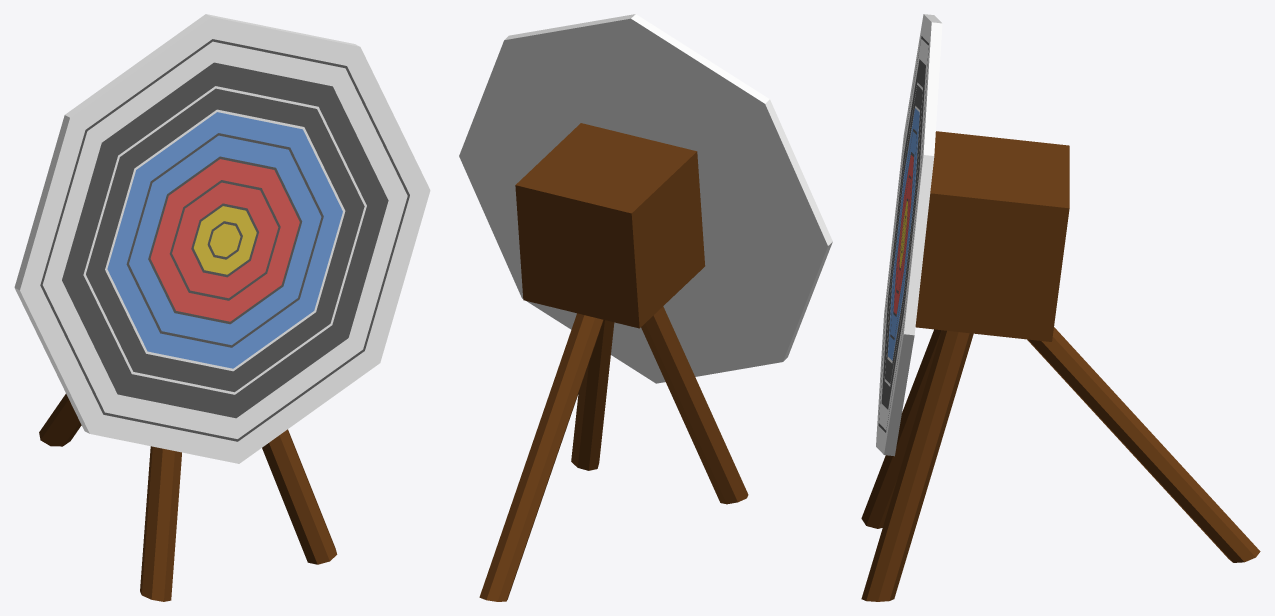
Rendered from target.fbx.
The picture shows the model from 3 angles, left to right: view 1: azimuth 30°, elevation 25°; view 2: azimuth 150°, elevation 25°; view 3: azimuth 270°, elevation 25°; orthographic projection. The views are drawn at different scales.
Parts seen in each view (by area): view 1: Target; view 2: Target; view 3: Target.
Boxes of the visible parts, left/top/right/bottom form: Target: left=14, top=14, right=430, bottom=601; Target: left=459, top=14, right=832, bottom=601; Target: left=861, top=14, right=1260, bottom=601.
Size of what is drawn, in the model's own units: 116 by 147 by 98.39.
